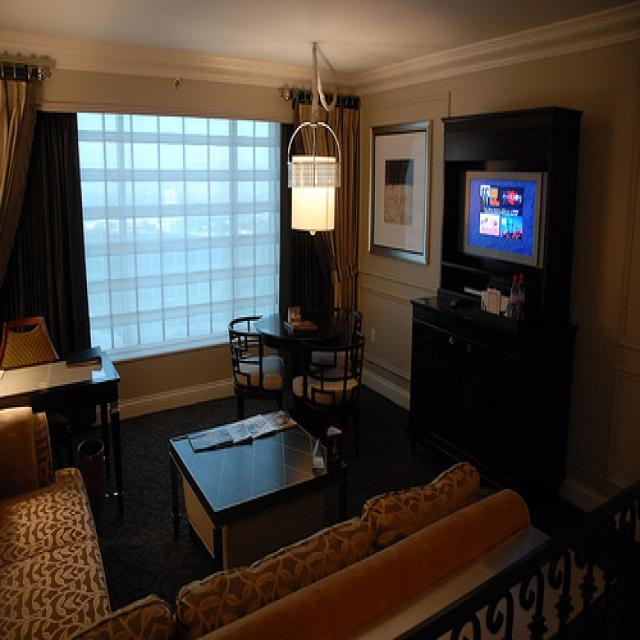bottle: (517, 272, 528, 324), (511, 272, 521, 322)
chair: (1, 314, 77, 469), (290, 332, 367, 458), (228, 315, 287, 422)
diningtable: (254, 309, 352, 372)
sofa: (1, 406, 532, 639)
tvmonitor: (455, 167, 549, 272)
